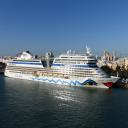cruises: (5, 46, 122, 90)
